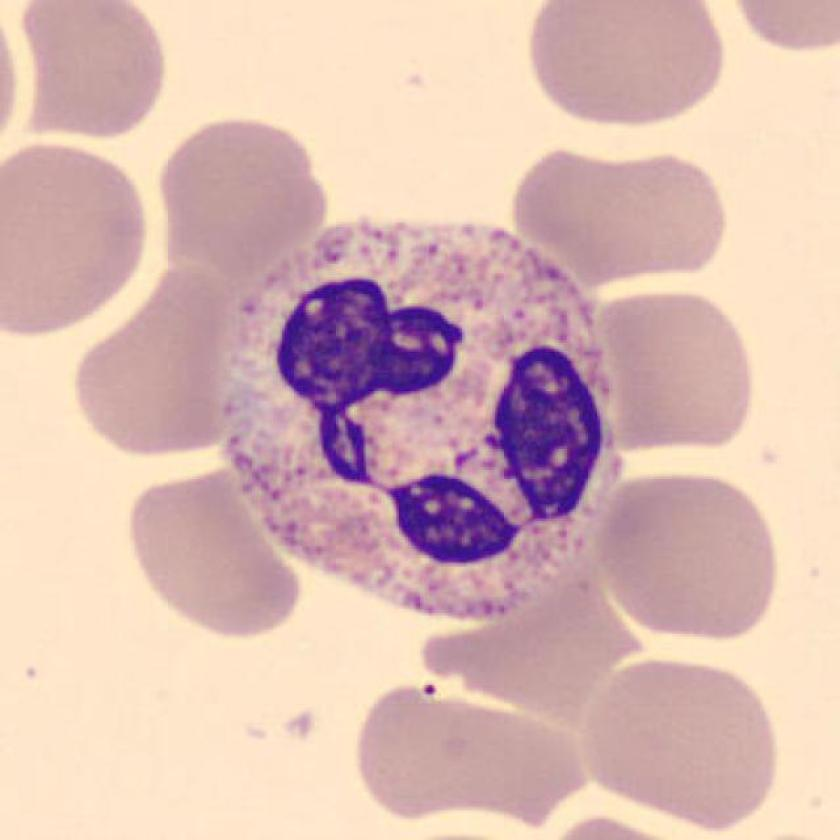neutrophil: (223, 223, 620, 619)
